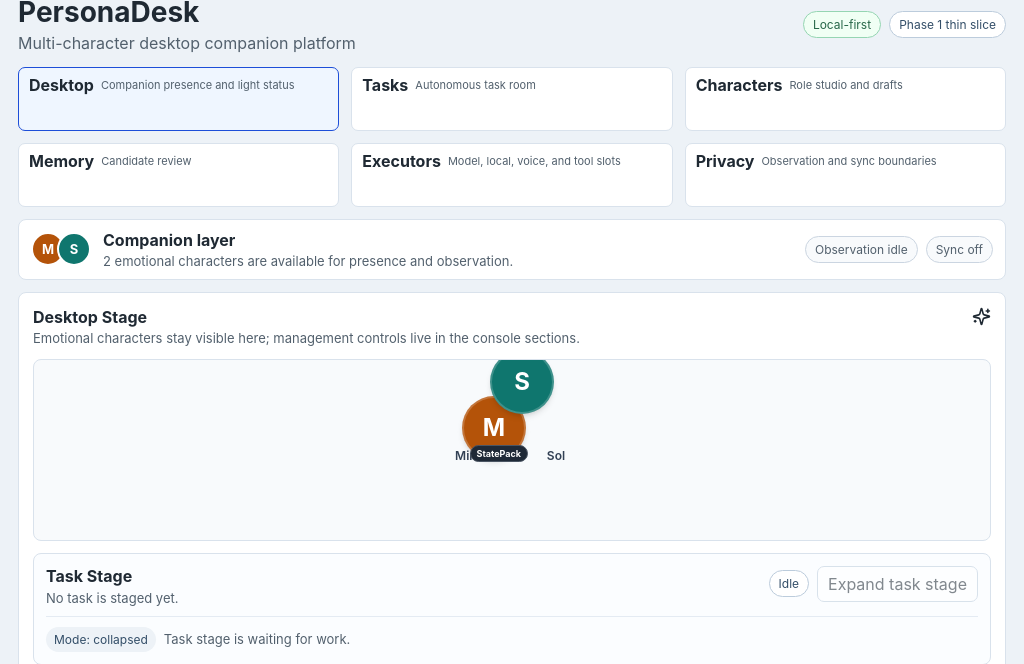
Test: PersonaDesk app › shows allowed executor fallback decisions on the task card
Click the button "Tasks Autonomous task room" at (385, 85), box [351,67,673,131]
(page scrolled)
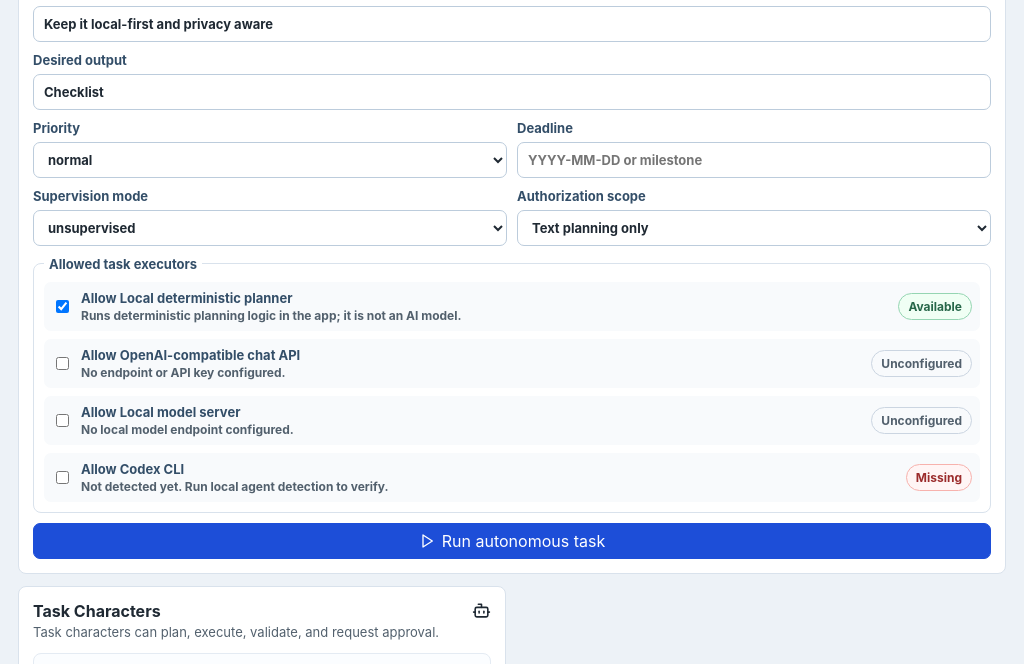
Click the checkbox labelled "Allow OpenAI-compatible chat API" at (62, 363), box [56,357,69,370]
(page scrolled)
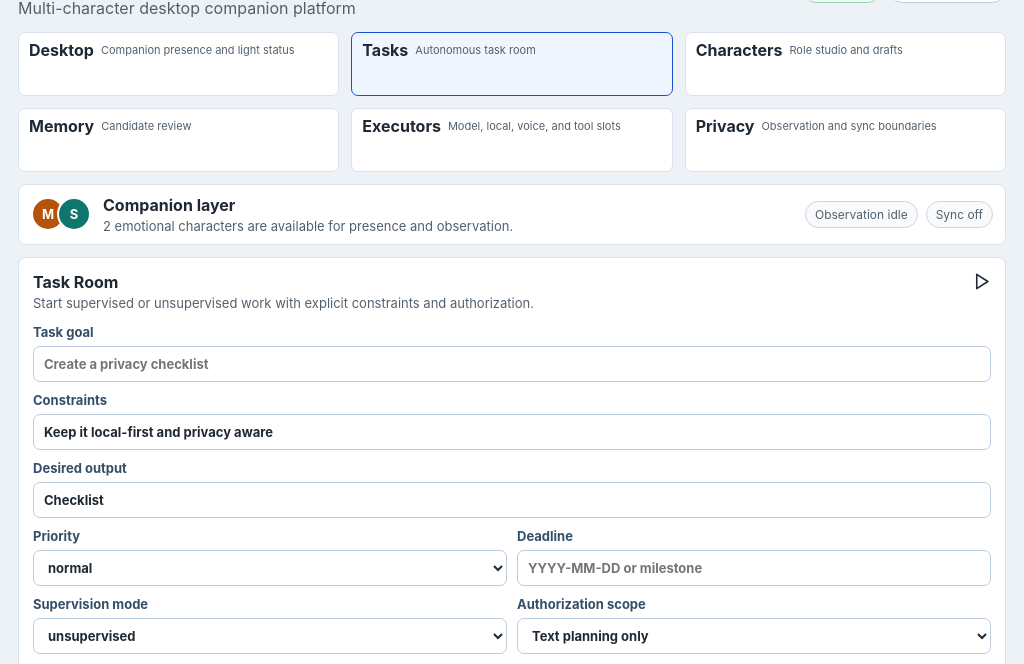
Type "Create a fallback-aware checklist" into the field labelled "Task goal" at (512, 364), box [33,346,991,382]
(page scrolled)
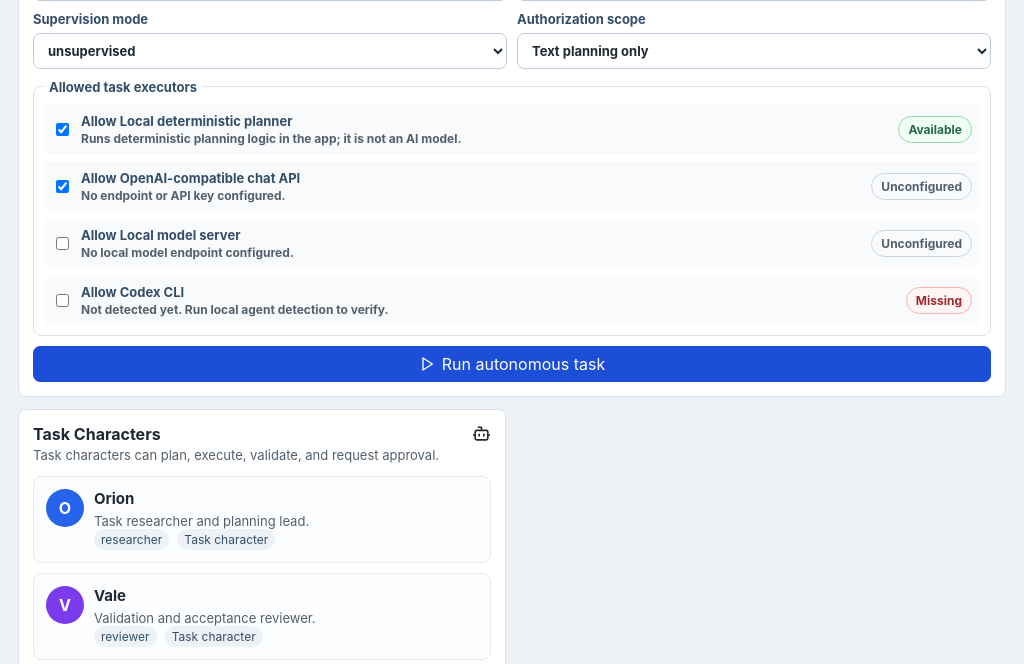
Click the button "Run autonomous task" at (512, 364), box [33,346,991,382]
(page scrolled)
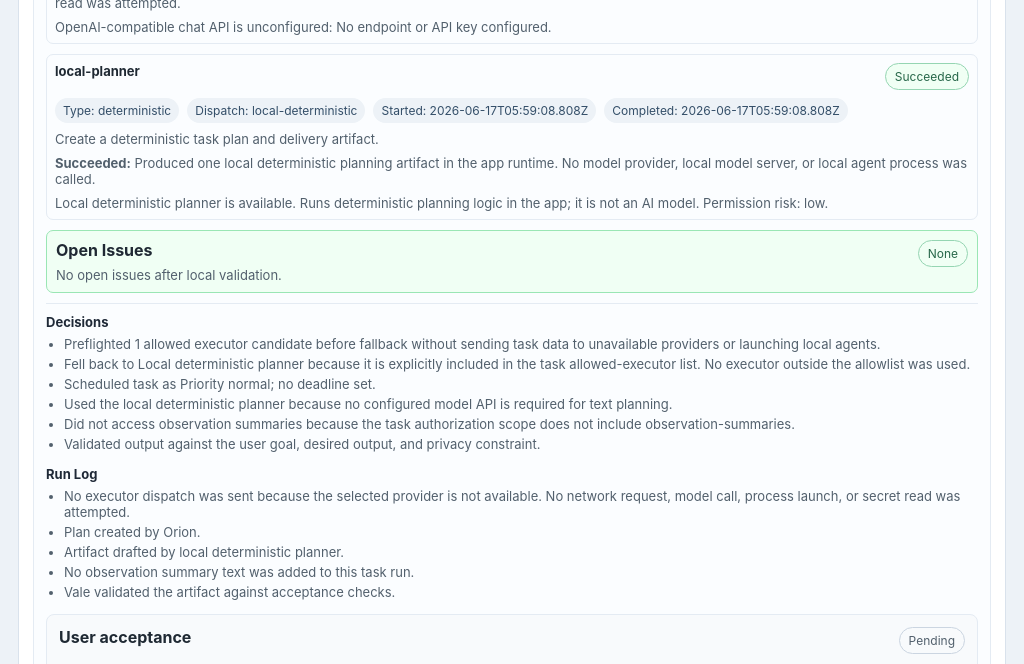
Result: the text "Dispatch: local-deterministic" is shown at [187,98,365,123]
Result: the list item "No executor outside the allowlist was used" is shown at [64,356,970,372]
